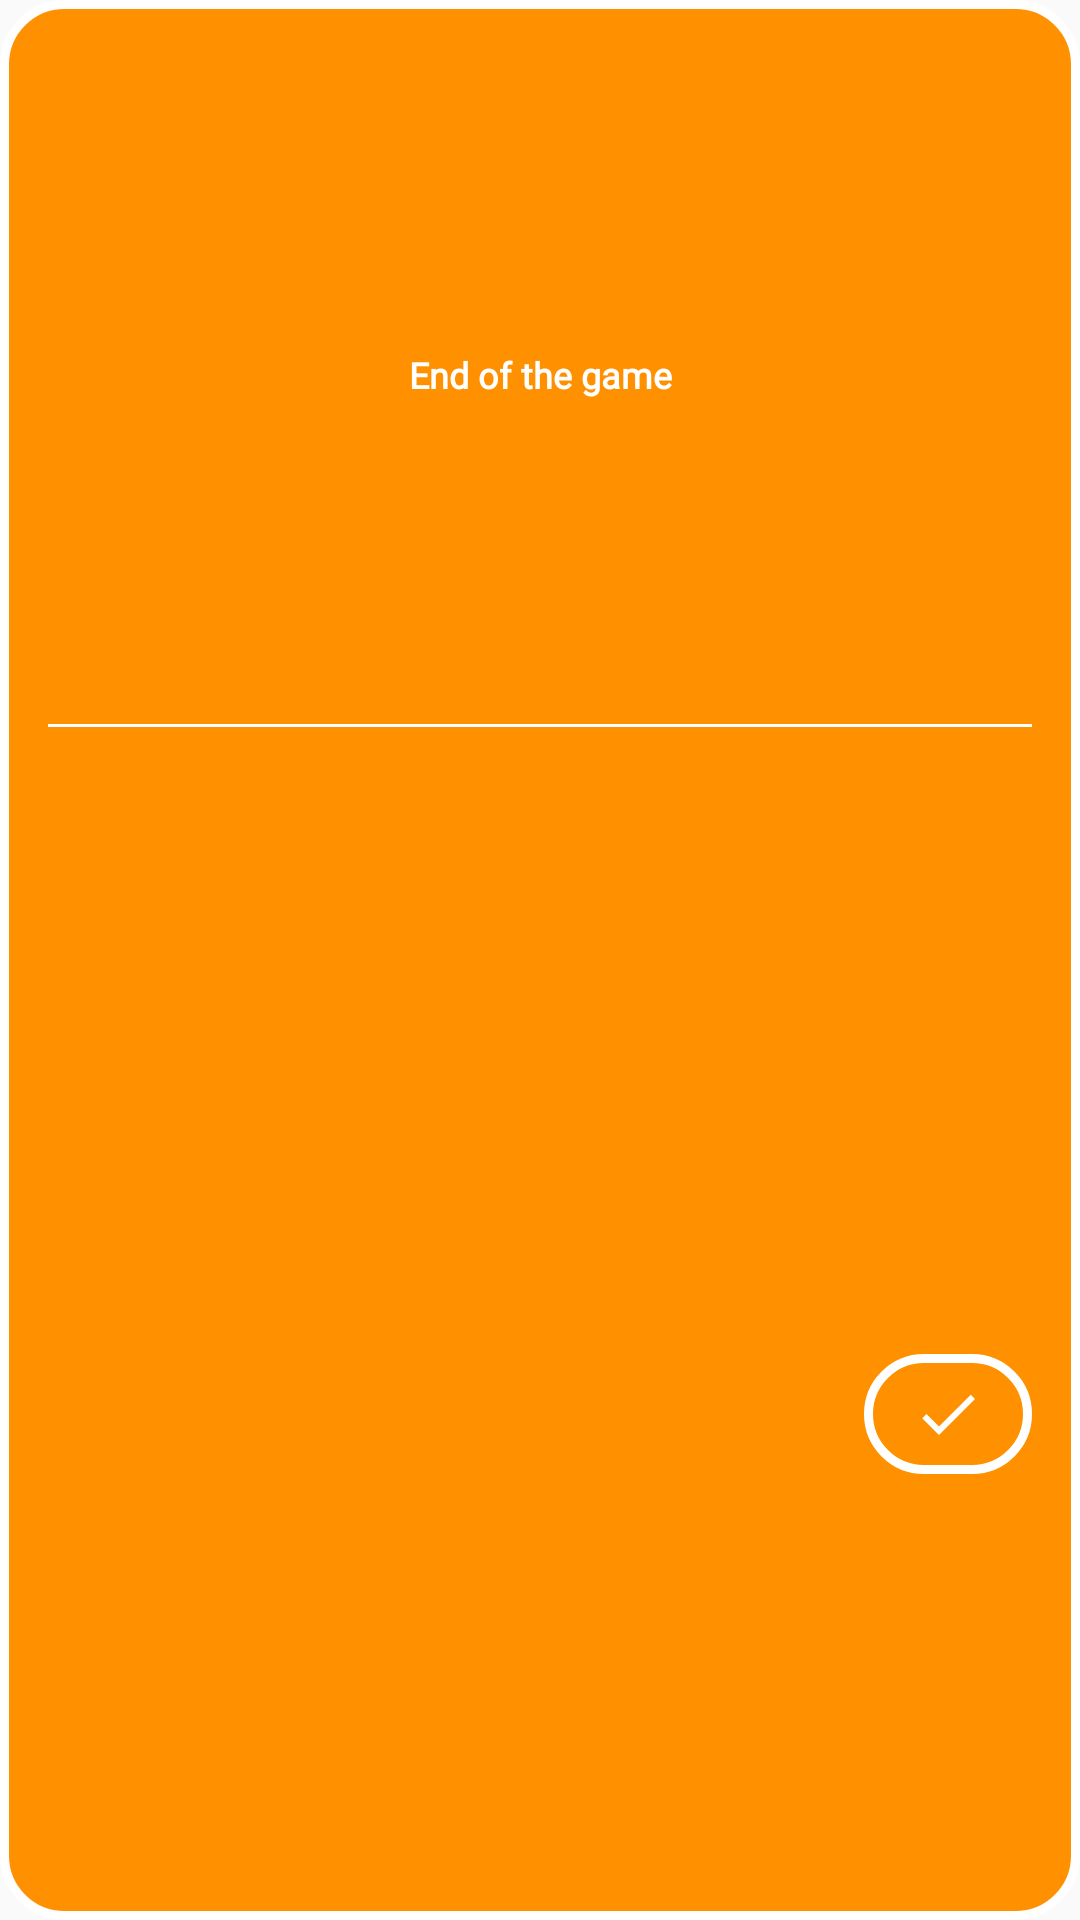

Locate icon controls on the screen. Image size 1080w x 1920h, boxes as (x1, y1, x2, y2).
check: (864, 1354, 1032, 1474)
